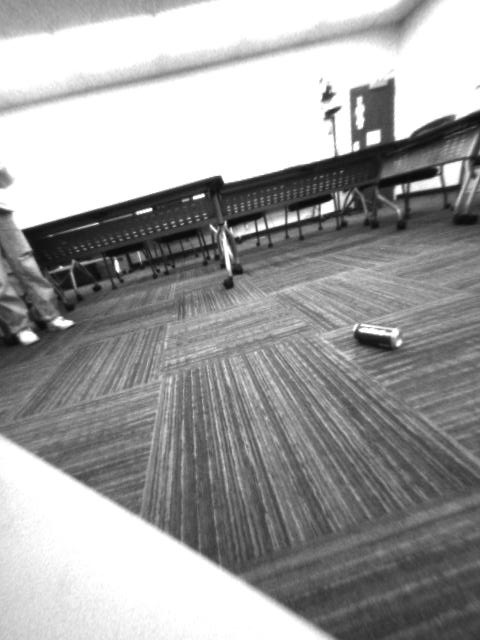can: (351, 319, 403, 349)
